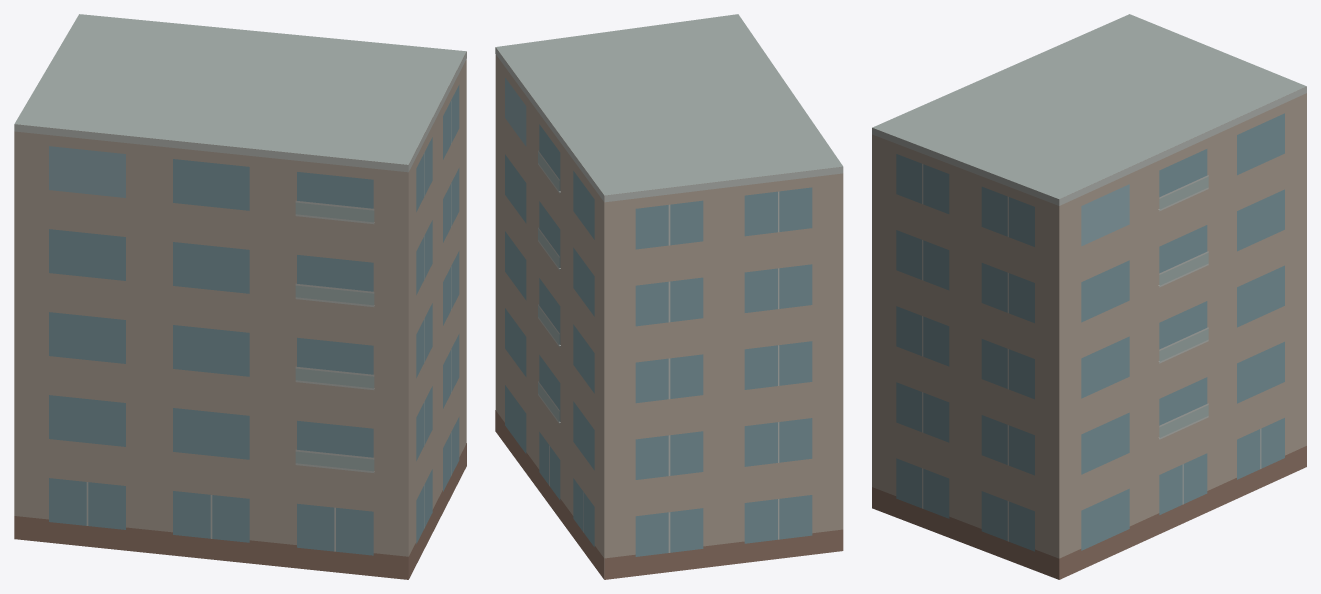
File: survey-upis-32527361.glb
The picture shows the model from 3 angles, left to right: view 1: azimuth 30°, elevation 25°; view 2: azimuth 150°, elevation 25°; view 3: azimuth 270°, elevation 25°; orthographic projection. The views are drawn at different scales.
Parts seen in each view (by area): view 1: survey-upis-32527361.tmp; view 2: survey-upis-32527361.tmp; view 3: survey-upis-32527361.tmp.
Boxes of the visible parts, <box> form: survey-upis-32527361.tmp: <box>14,14,466,579</box>; survey-upis-32527361.tmp: <box>495,14,843,579</box>; survey-upis-32527361.tmp: <box>872,14,1306,579</box>.
Bounding box in the file's own units: 14.36 × 13.75 × 14.24.
